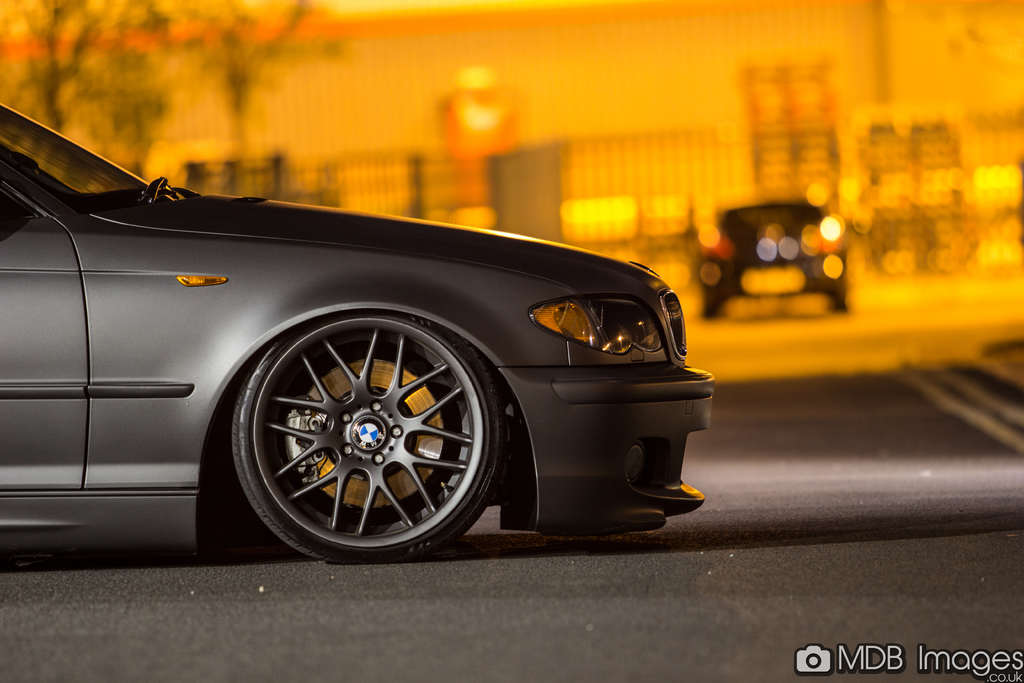Car: (0, 108, 718, 556), (698, 198, 855, 316)
